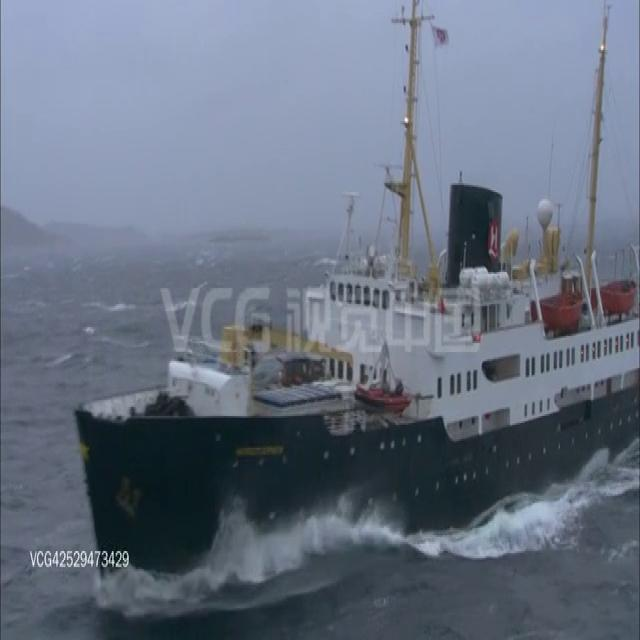passenger ship: (54, 107, 640, 551)
